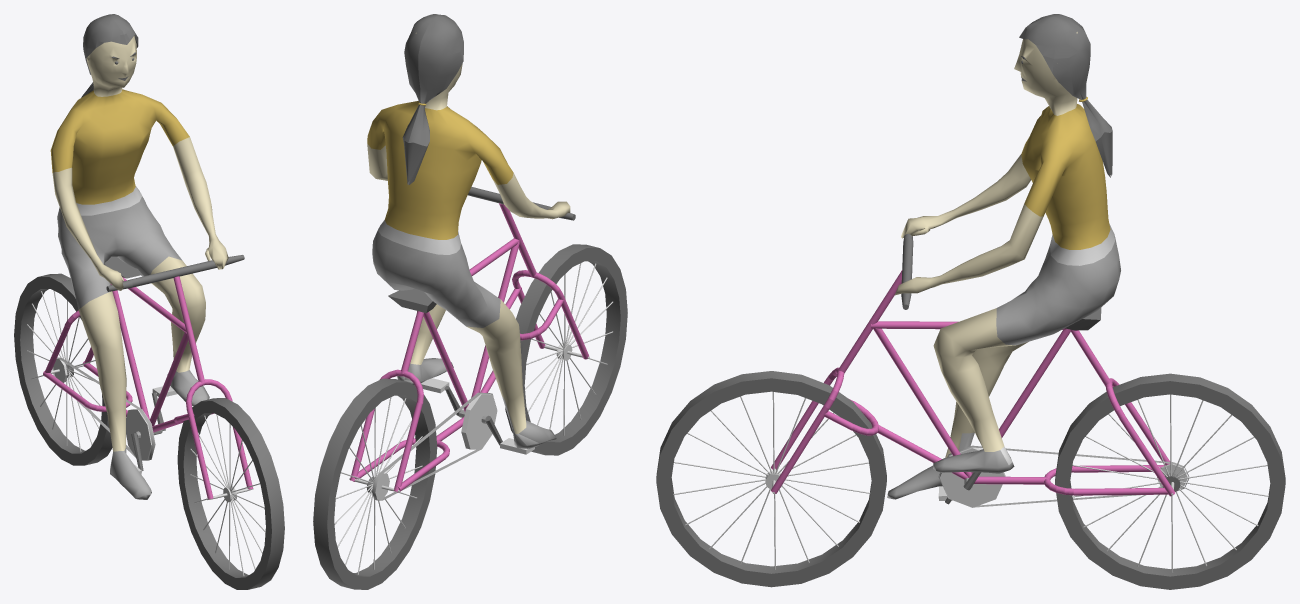
The model's file is bicycle.dae.
The picture shows the model from 3 angles, left to right: view 1: azimuth 30°, elevation 25°; view 2: azimuth 150°, elevation 25°; view 3: azimuth 270°, elevation 25°; orthographic projection. The views are drawn at different scales.
Parts seen in each view (by area): view 1: polySurface1, wheelFront, wheelBack, hair, handleBar, pedalGear, bar_CE, beam6, bar_BE, beam13, chain, bar_BC (+3 smaller); view 2: polySurface1, wheelBack, wheelFront, hair, pedalGear, chain, bar_BE, bar_CE, seat, beam8, beam6, handleBar (+4 smaller); view 3: polySurface1, wheelBack, wheelFront, hair, pedalGear, bar_BE, bar_CE, beam6, chain.
Part boxes in pixels (box(x1,y1,x2,y2)): polySurface1: box(50, 36, 228, 499); wheelFront: box(177, 398, 284, 589); wheelBack: box(14, 273, 112, 465); hair: box(81, 14, 138, 97); handleBar: box(106, 255, 244, 291); pedalGear: box(126, 409, 155, 460); bar_CE: box(110, 284, 149, 419); beam6: box(173, 276, 204, 382); bar_BE: box(149, 331, 188, 426); beam13: box(187, 408, 213, 499); chain: box(52, 357, 155, 460); bar_BC: box(122, 277, 193, 332); polySurface1: box(367, 32, 570, 448); wheelBack: box(313, 378, 437, 589); wheelFront: box(505, 244, 627, 455); hair: box(402, 14, 463, 184); pedalGear: box(461, 393, 497, 449); chain: box(372, 392, 492, 500); bar_BE: box(471, 242, 519, 397); bar_CE: box(423, 312, 468, 412); seat: box(388, 288, 436, 313); beam8: box(394, 402, 422, 491); beam6: box(499, 203, 536, 276); handleBar: box(468, 186, 575, 220); polySurface1: box(887, 32, 1120, 499); wheelBack: box(1055, 373, 1285, 589); wheelFront: box(656, 371, 886, 587); hair: box(1019, 14, 1112, 177); pedalGear: box(939, 447, 1005, 507); bar_BE: box(873, 328, 971, 477); bar_CE: box(971, 329, 1070, 474); beam6: box(837, 270, 902, 373); chain: box(938, 445, 1189, 507).
Size of what is drawn, in the model's own units: 5.88 by 18.98 by 19.11.
